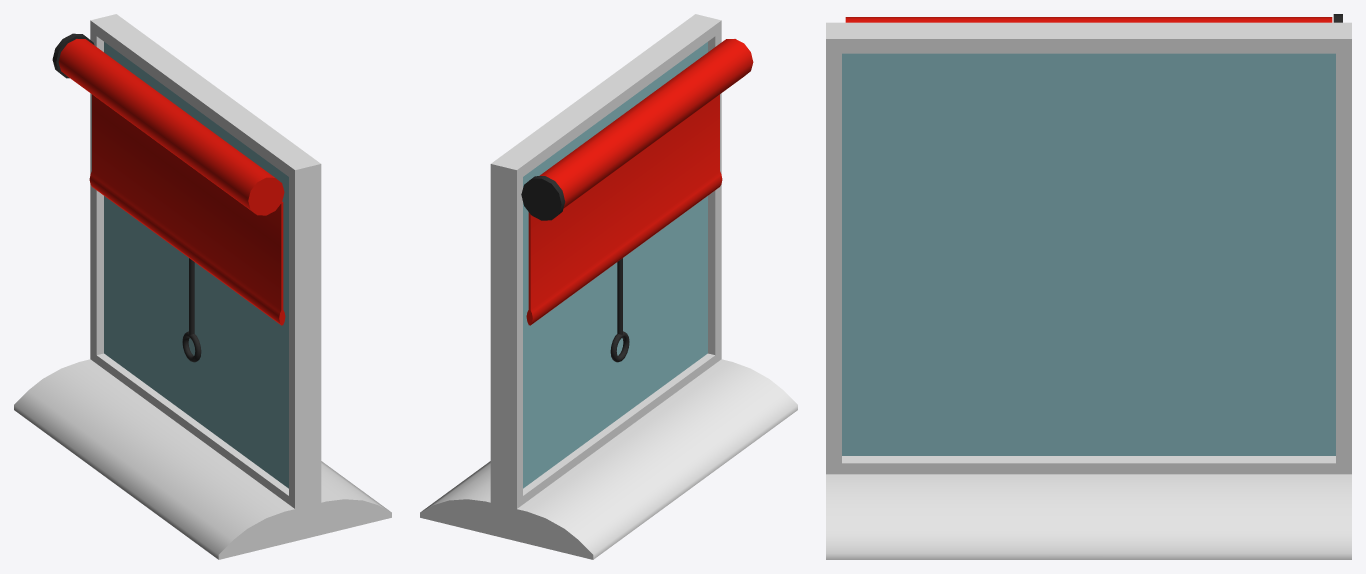
The model's file is GB_071_window.glb.
The picture shows the model from 3 angles, left to right: view 1: azimuth 30°, elevation 25°; view 2: azimuth 150°, elevation 25°; view 3: azimuth 270°, elevation 25°; orthographic projection. The views are drawn at different scales.
Visible parts, largest first — view 1: Window; view 2: Window; view 3: Window.
Boxes of the visible parts, left/top/right/bottom form: Window: left=14, top=14, right=391, bottom=559; Window: left=420, top=14, right=797, bottom=559; Window: left=826, top=14, right=1351, bottom=559.
Bounding box in the file's own units: 0.7317 × 1.5 × 1.5.
